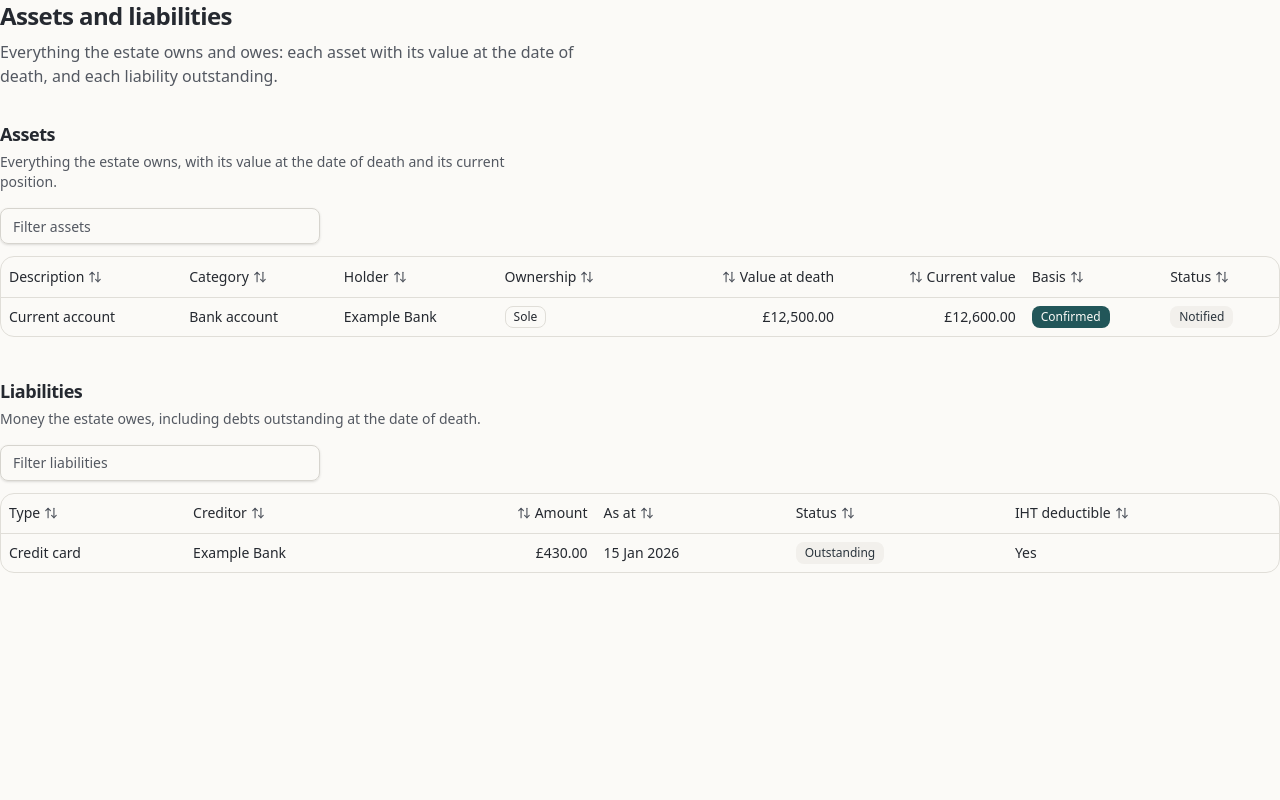
AssetsPage › hides every write affordance from a viewer
Click the text "Current account". click: (91, 316)
box: top-left (1, 297), bottom-right (181, 336)
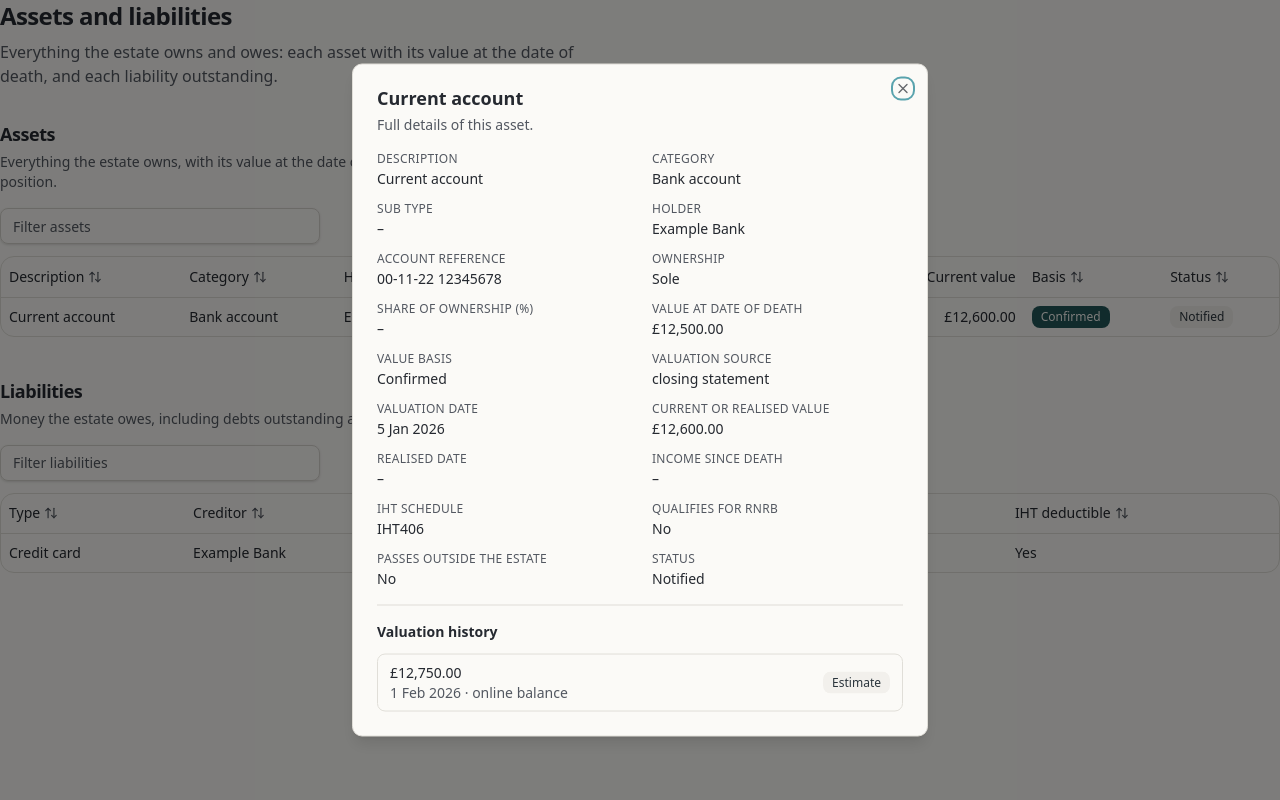
Result: the text "£12,750.00" is shown at top-left (390, 662), bottom-right (462, 682)
